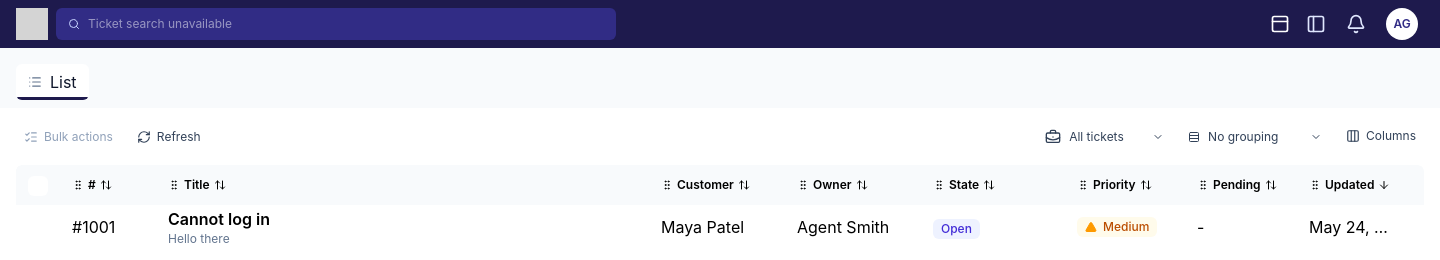
Test: TicketWorkspace saved views › loads and selects a persisted saved view from the workspace selector
Step 1. Click the dropdown named "Saved view" → (1105,136), box [1037,124,1172,148]
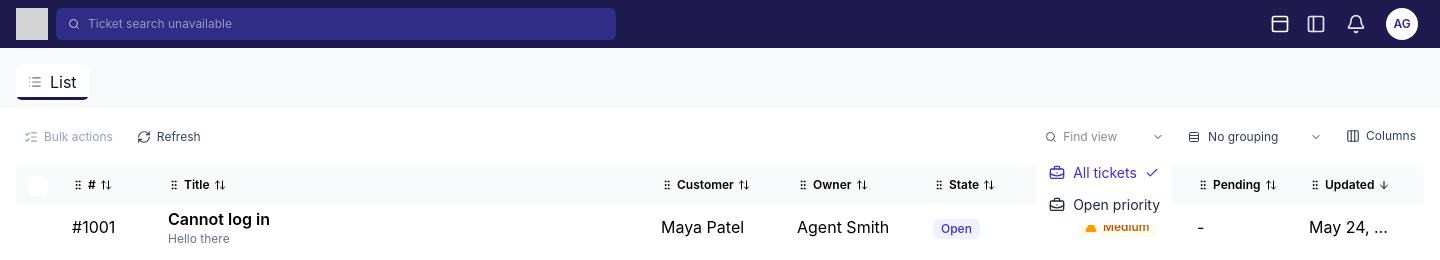
Step 2. Click the option "Open priority" → (1105,204), box [1041,188,1168,220]
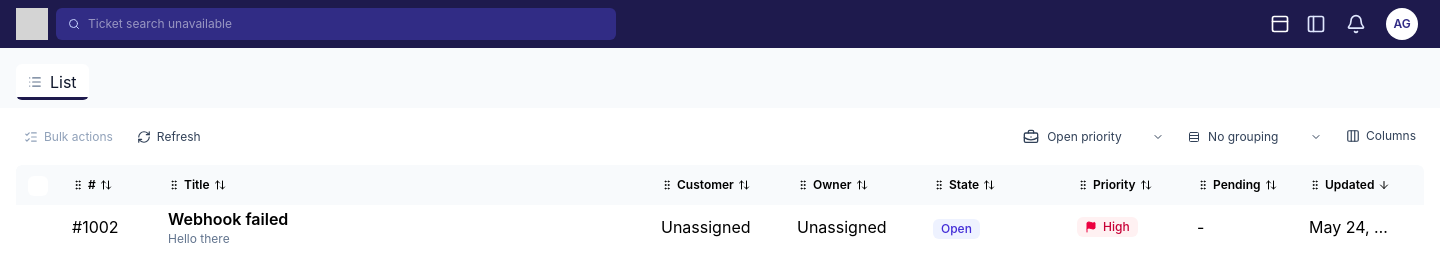
expect the dropdown named "Saved view" reads "Open priority": met, box [1015,124,1172,148]
expect the text "Webhook failed" is shown: met, box [168,209,288,229]
